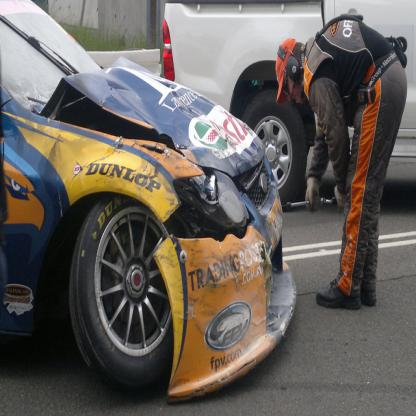car: (0, 2, 296, 405), (161, 0, 416, 211)
person: (289, 0, 387, 298)
